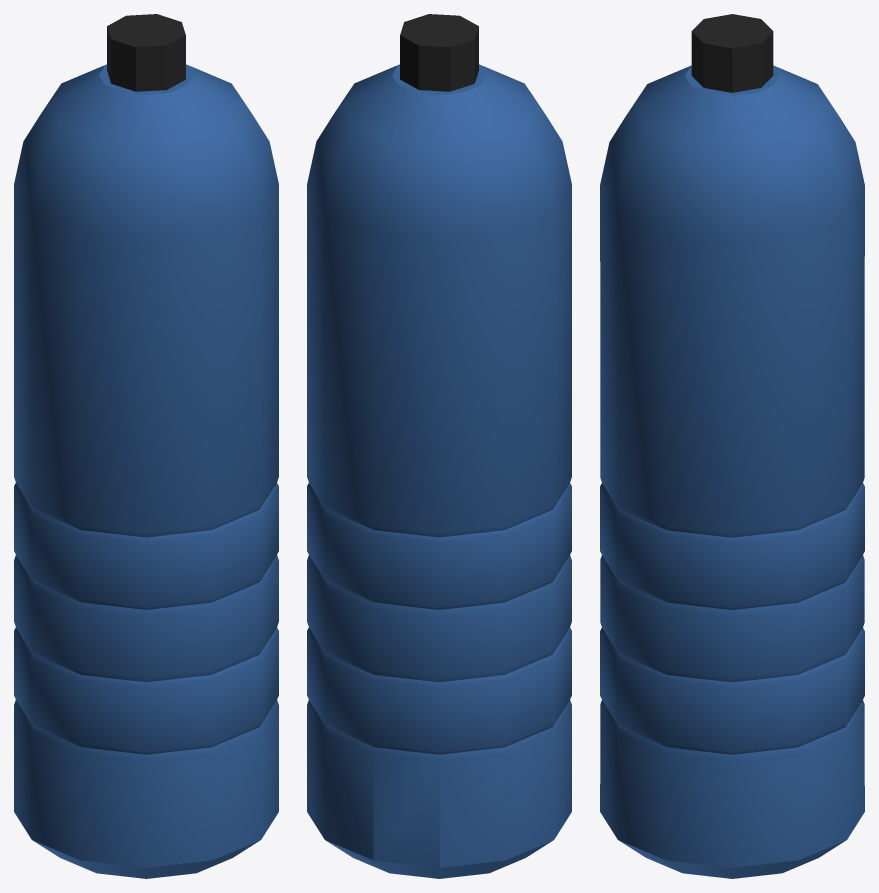
File: WaterBottle_2.fbx
3 renders of one model, left to right at view 1: azimuth 30°, elevation 25°; view 2: azimuth 150°, elevation 25°; view 3: azimuth 270°, elevation 25°, orthographic.
Parts seen in each view (by area): view 1: WaterBottle_2; view 2: WaterBottle_2; view 3: WaterBottle_2.
Boxes of the visible parts, x1,y1,x2,y2 form: WaterBottle_2: (14,14,278,878); WaterBottle_2: (307,14,571,878); WaterBottle_2: (600,14,864,878).
Size of the model in its own units: 55.11 by 55.11 by 185.
